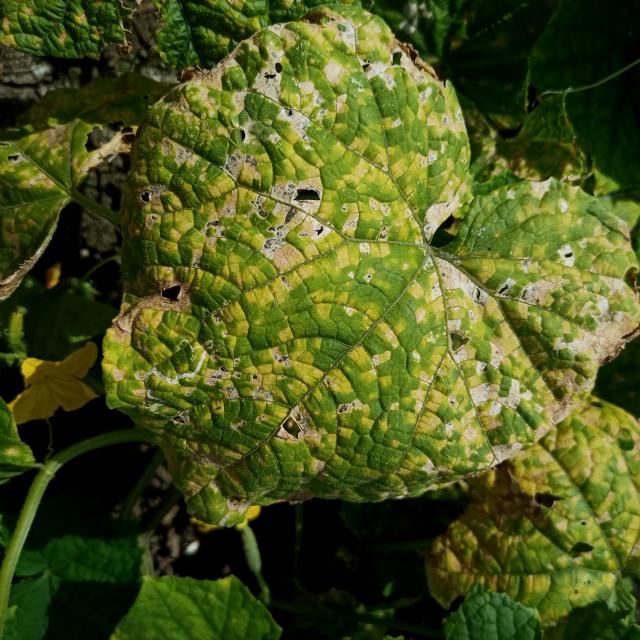disease_cucumber: (99, 22, 630, 525), (423, 404, 640, 626)
